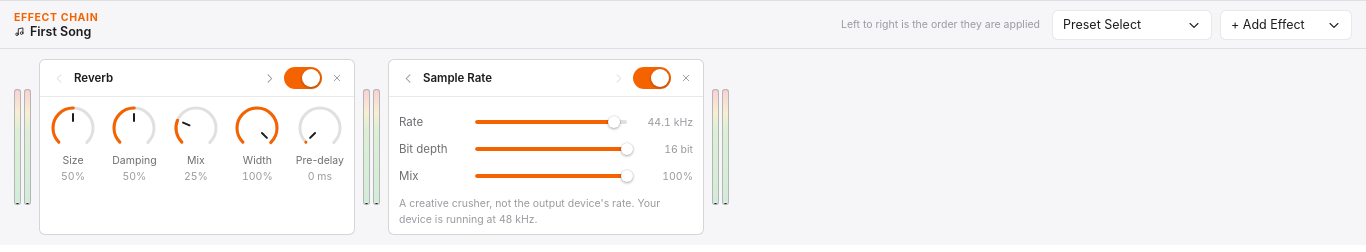
BlockEffectsRack › moves a device along the chain, writing the whole order
Click the button named "Move Sample Rate earlier in the chain" at (408, 78), box [397,65,419,91]
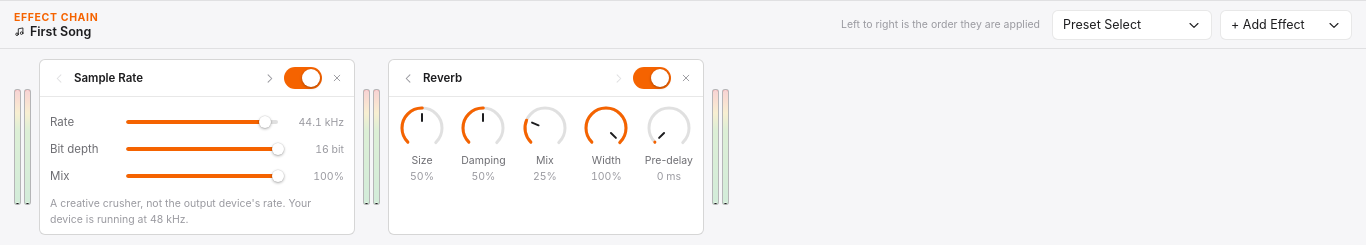
Now the elements with class "rack__device-name" read "Sample Rate", "Reverb", in this order, box [74,71,143,85]; [423,71,462,85]
